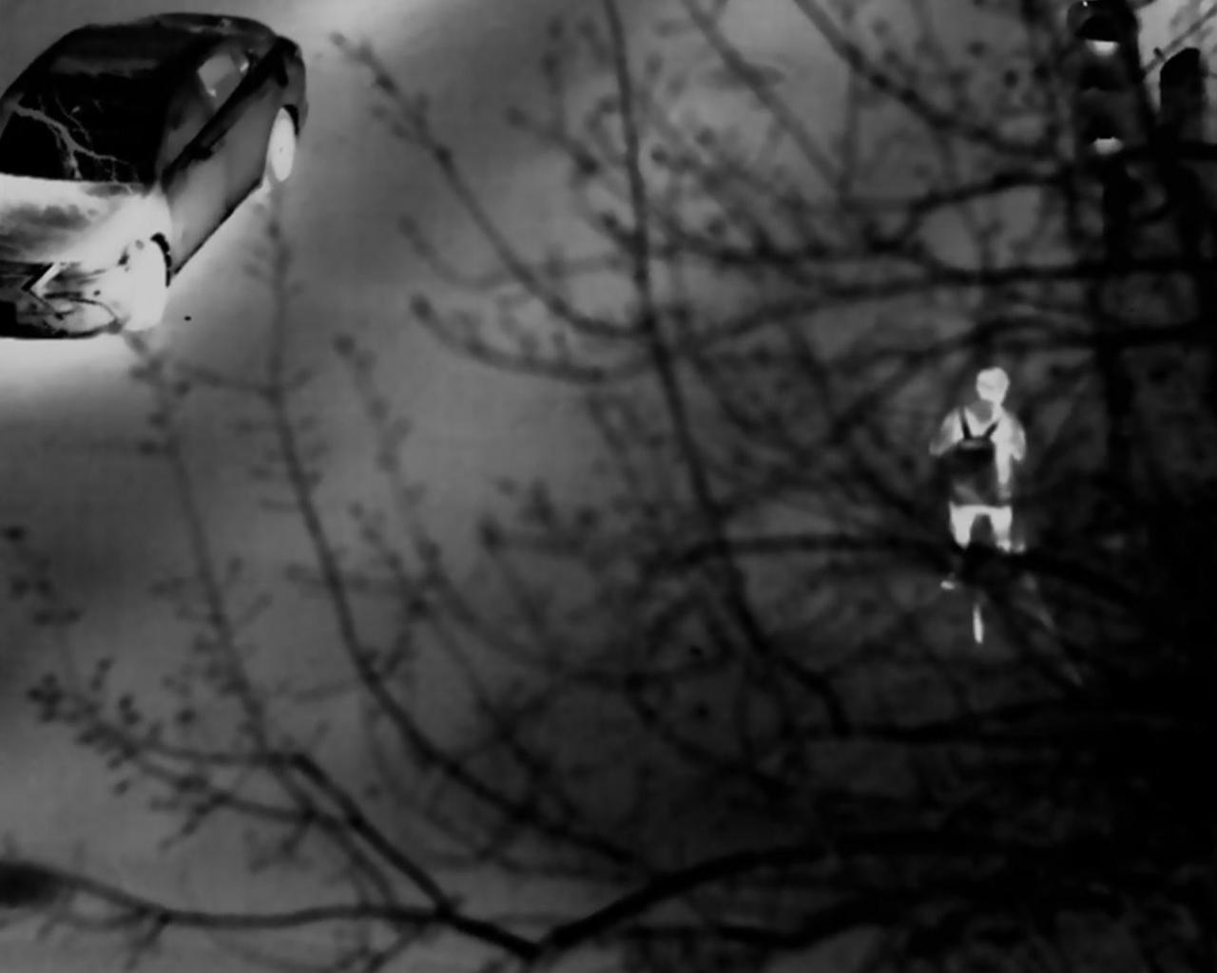person: (924, 365, 1041, 575)
